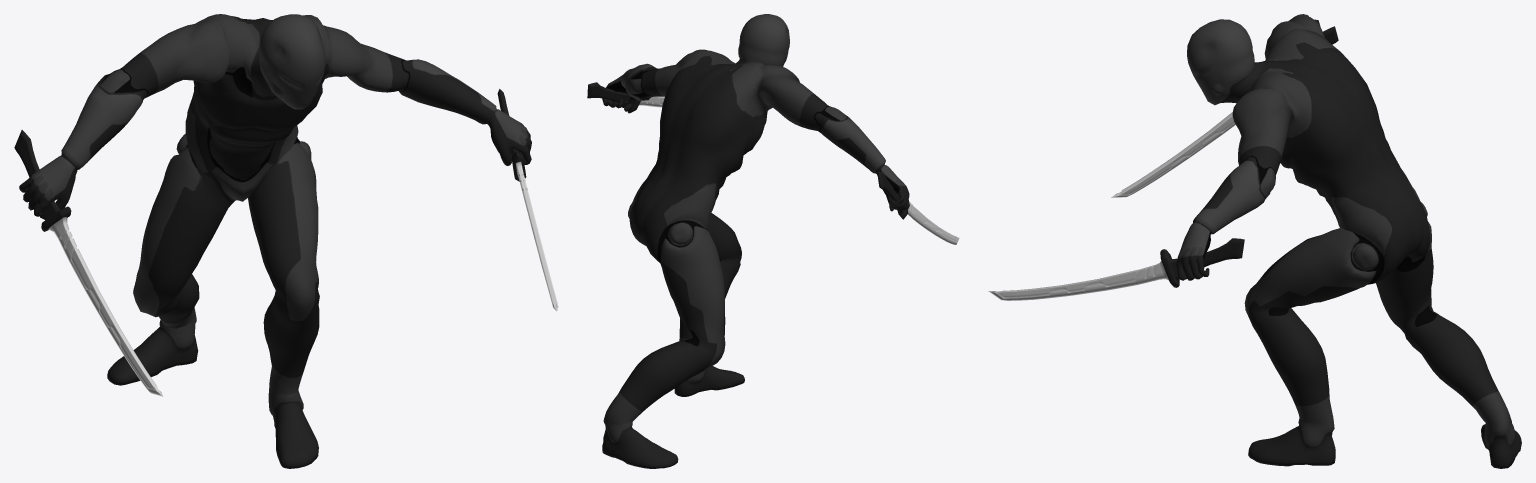
3 renders of one model, left to right at view 1: azimuth 30°, elevation 25°; view 2: azimuth 150°, elevation 25°; view 3: azimuth 270°, elevation 25°, orthographic. The views are drawn at different scales.
Visible parts, largest first — view 1: Cyborg_Ninja_Killer, Sword_l001, Sword_l; view 2: Cyborg_Ninja_Killer, Sword_l001, Sword_l; view 3: Cyborg_Ninja_Killer, Sword_l, Sword_l001.
Boxes of the visible parts, x1,y1,x2,y2 form: Cyborg_Ninja_Killer: (19,14,531,468); Sword_l001: (14,130,163,396); Sword_l: (497,89,558,311); Cyborg_Ninja_Killer: (602,14,909,468); Sword_l001: (877,171,959,244); Sword_l: (587,82,664,113); Cyborg_Ninja_Killer: (1176,14,1521,468); Sword_l: (988,238,1244,300); Sword_l001: (1111,26,1338,197).
Size of the model in its own units: 146 by 144 by 165.
Materials: 2 (2 with a texture image).
